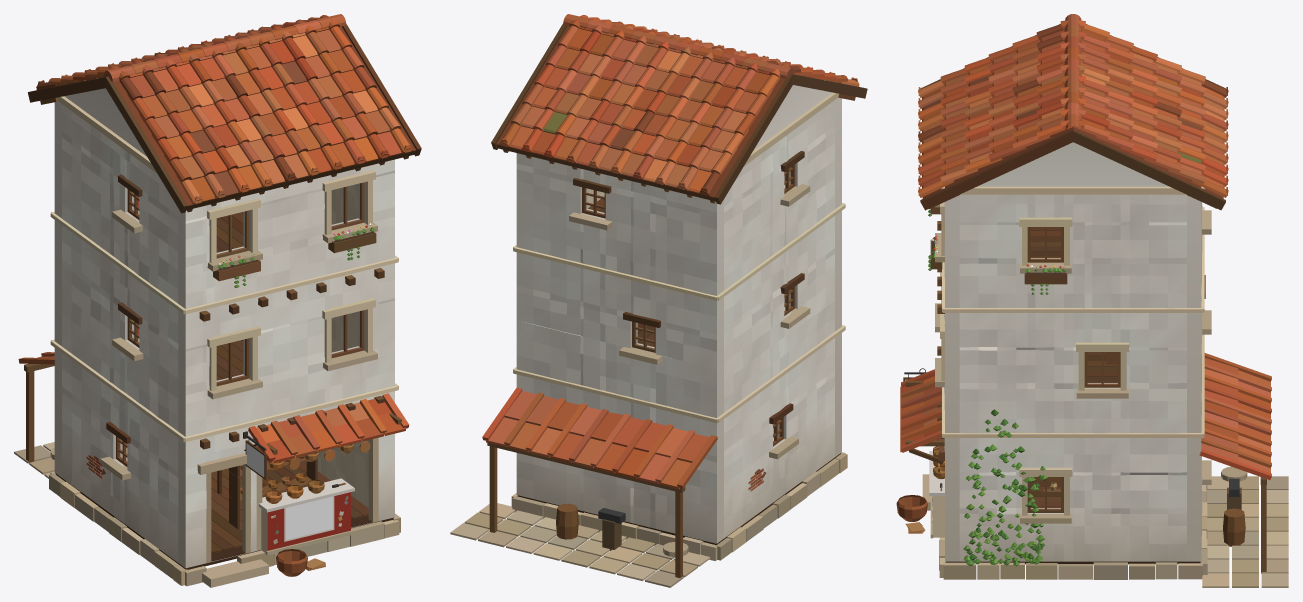
The model's file is artisan_4_3.glb.
The picture shows the model from 3 angles, left to right: view 1: azimuth 30°, elevation 25°; view 2: azimuth 150°, elevation 25°; view 3: azimuth 270°, elevation 25°; orthographic projection. The views are drawn at different scales.
Visible parts, largest first — view 1: House, Walls, Rooms; view 2: Walls, House; view 3: Walls, House, Rooms.
Part boxes in pixels (x1,y1,x2,y2): House: (14,14,421,587); Walls: (54,88,394,568); Rooms: (126,184,368,554); Walls: (516,85,841,543); House: (450,14,867,587); Walls: (944,142,1202,561); House: (896,14,1288,587); Rooms: (1030,227,1117,507).
Size of the model in its own units: 4.28 by 7.68 by 5.96.
Materials: 6 (6 with a texture image).
